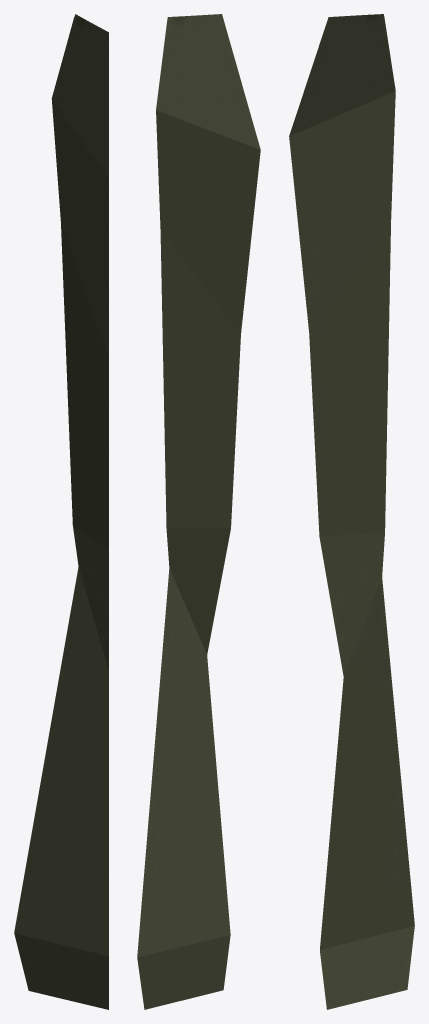
3 renders of one model, left to right at view 1: azimuth 90°, elevation 25°; view 2: azimuth 150°, elevation 25°; view 3: azimuth 330°, elevation 25°, orthographic.
Bounding box in the file's own units: 0.2413 × 2.95 × 0.2592.
1 material, 1 textured.
